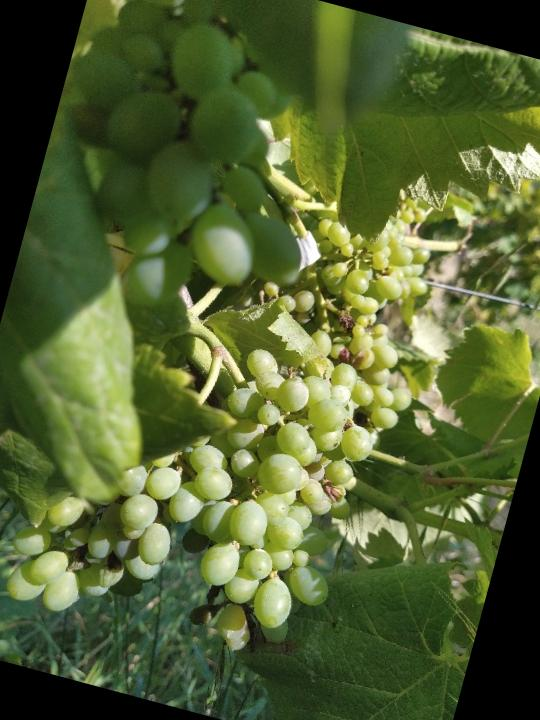grape: (0, 287, 423, 691)
